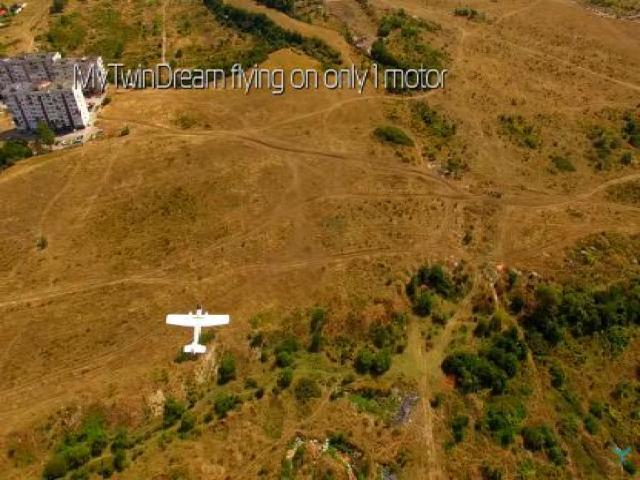uav: (156, 297, 236, 368)
